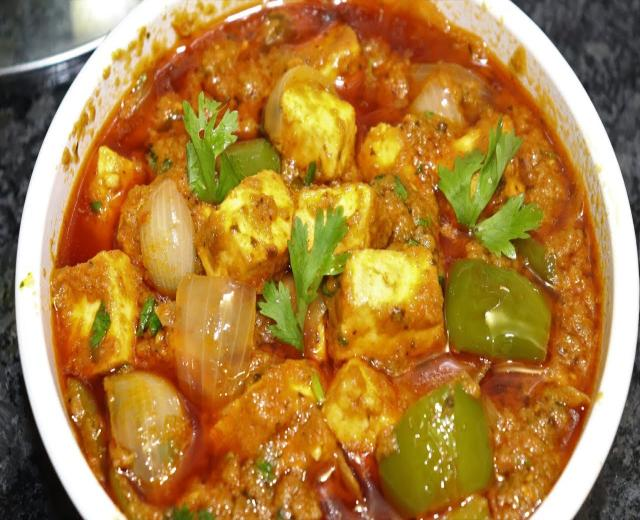kadai paneer: (48, 0, 604, 519)
